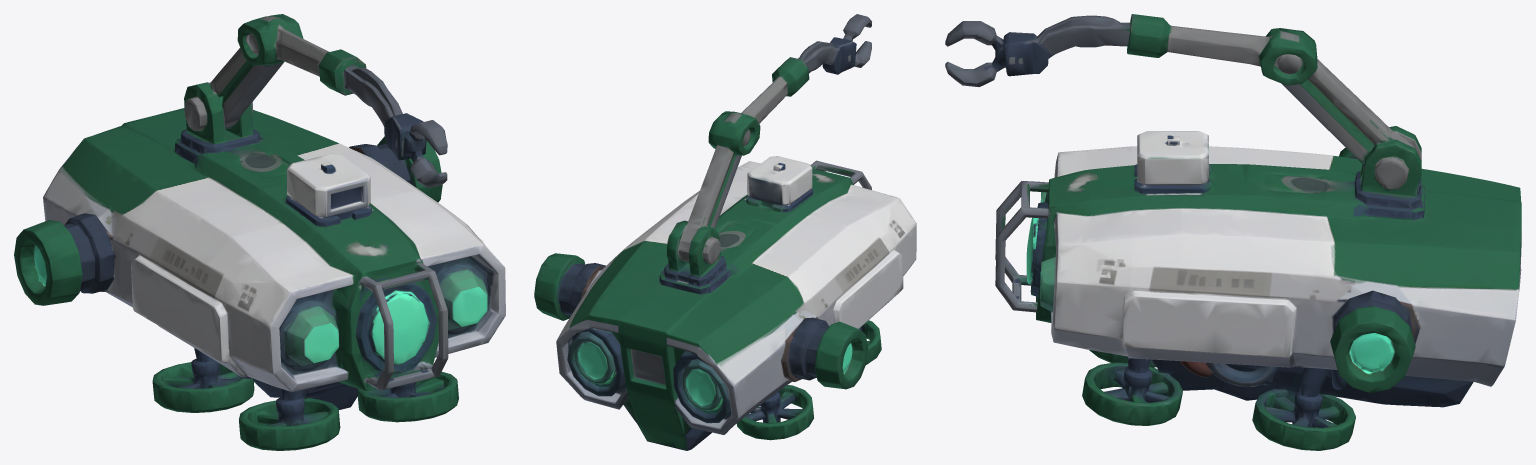
The picture shows the model from 3 angles, left to right: view 1: azimuth 30°, elevation 25°; view 2: azimuth 150°, elevation 25°; view 3: azimuth 270°, elevation 25°; orthographic projection. The views are drawn at different scales.
Parts seen in each view (by area): view 1: node_0; view 2: node_0; view 3: node_0.
Boxes of the visible parts, bbox=[...] form: node_0: bbox=[14, 14, 505, 450]; node_0: bbox=[534, 14, 916, 450]; node_0: bbox=[945, 14, 1521, 450].
Bounding box in the file's own units: 77.57 × 75.05 × 99.96.
Materials: 1 (1 with a texture image).
